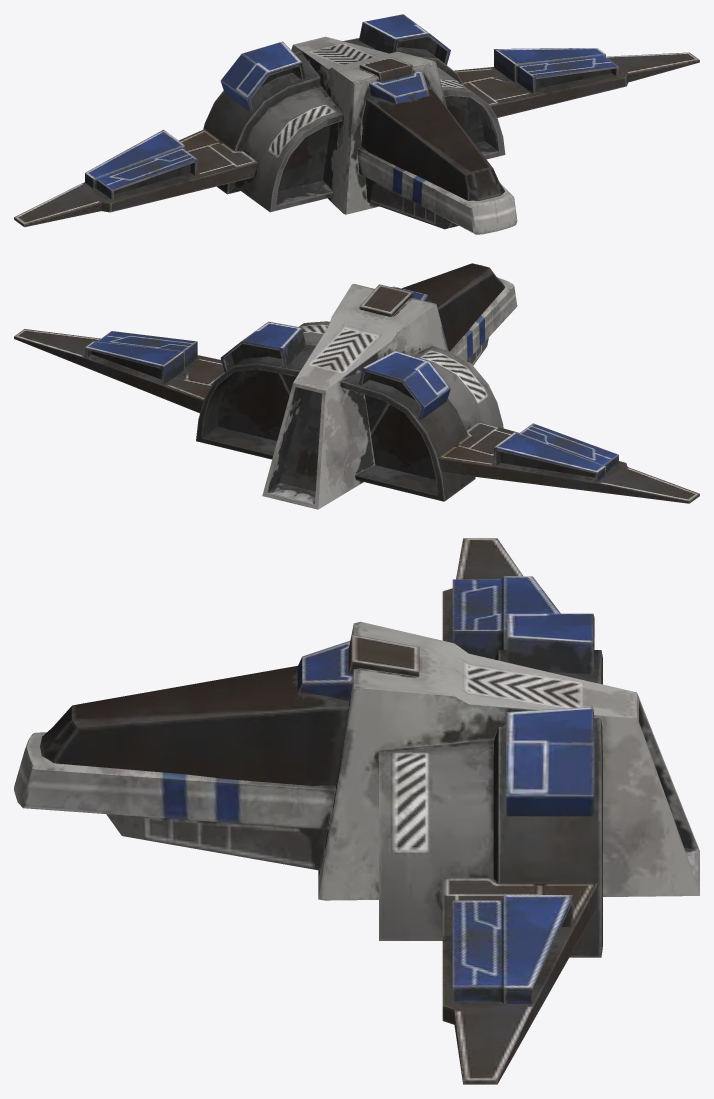
The model's file is ship-bob.gltf.
The picture shows the model from 3 angles, top to bottom: view 1: azimuth 30°, elevation 25°; view 2: azimuth 150°, elevation 25°; view 3: azimuth 270°, elevation 25°; orthographic projection. The views are drawn at different scales.
Parts seen in each view (by area): view 1: bob; view 2: bob; view 3: bob.
Part boxes in pixels (bbox=[...]): bob: bbox=[14, 14, 699, 234]; bob: bbox=[14, 263, 699, 509]; bob: bbox=[14, 538, 699, 1084].
Bounding box in the file's own units: 10.5 × 2.04 × 5.61.
Materials: 1 (1 with a texture image).
